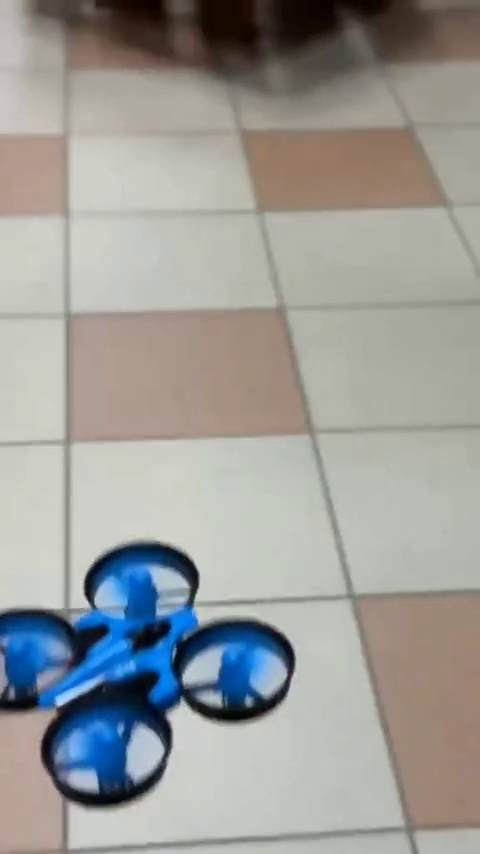drone: (0, 544, 292, 800)
